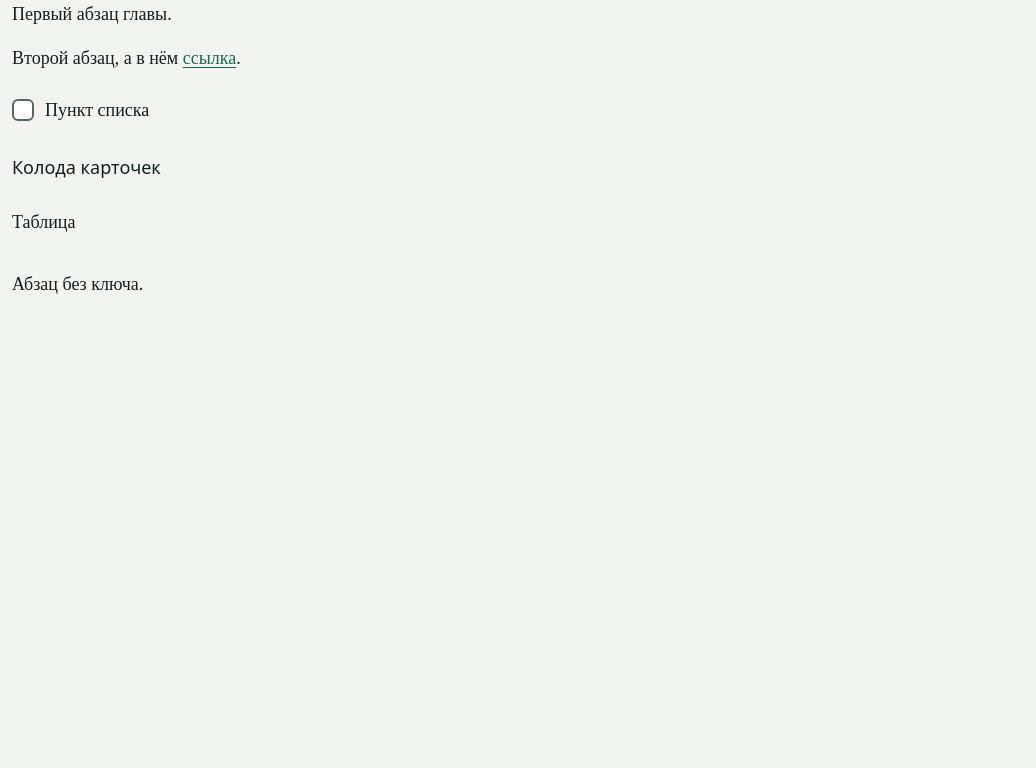
Test: BlockActions: слушатели нажатия не на document › абзац выбирается, даже если до document нажатие не доходит
Later steps or results of the test are not shown.
Click the text "Первый абзац главы.".
click(92, 14)  # box [12,4,172,24]
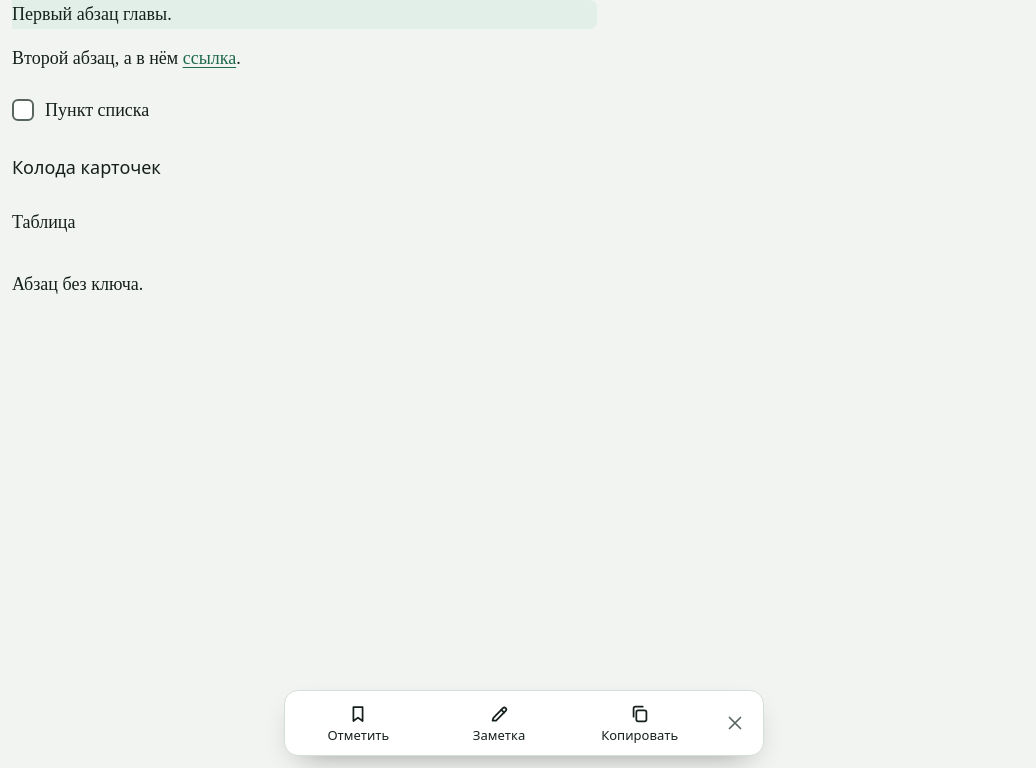
Expected: the element with class "bact" is shown, [284,690,764,756]
